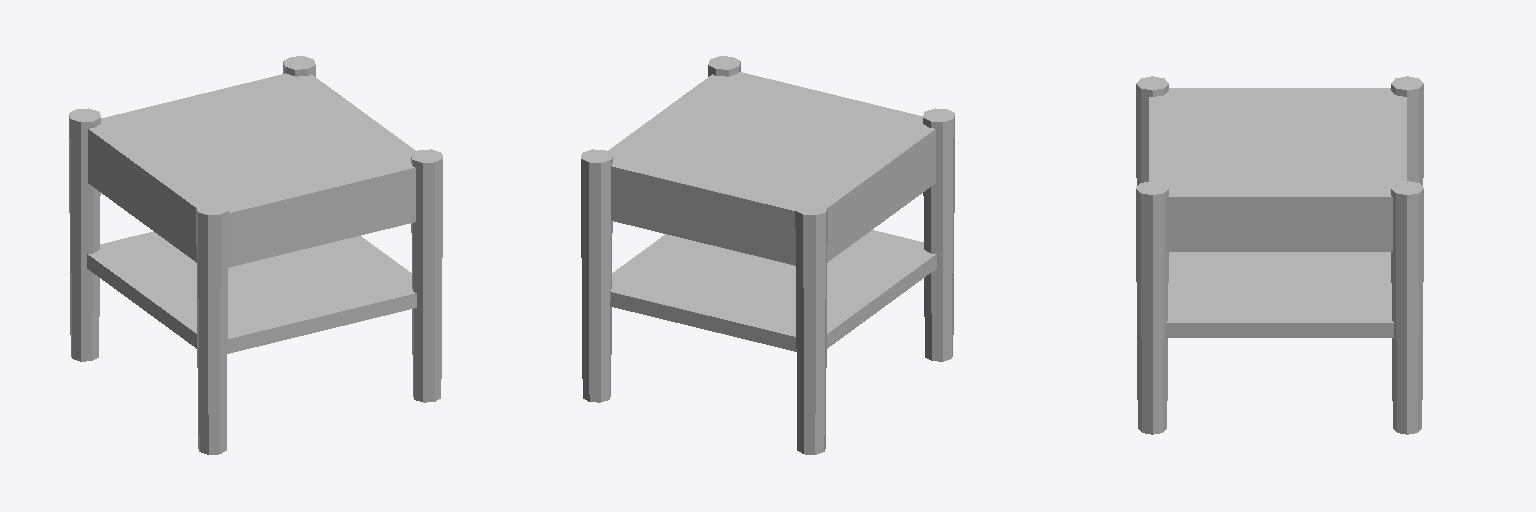
The model's file is SM_MesadaB.obj.
3 renders of one model, left to right at view 1: azimuth 30°, elevation 25°; view 2: azimuth 150°, elevation 25°; view 3: azimuth 270°, elevation 25°, orthographic.
Parts seen in each view (by area): view 1: MesadaB; view 2: MesadaB; view 3: MesadaB.
Part boxes in pixels (x1,y1,x2,y2): MesadaB: (69,56,442,454); MesadaB: (581,56,954,454); MesadaB: (1136,76,1423,434).
Bounding box in the file's own units: 3.77 × 3.55 × 3.86.